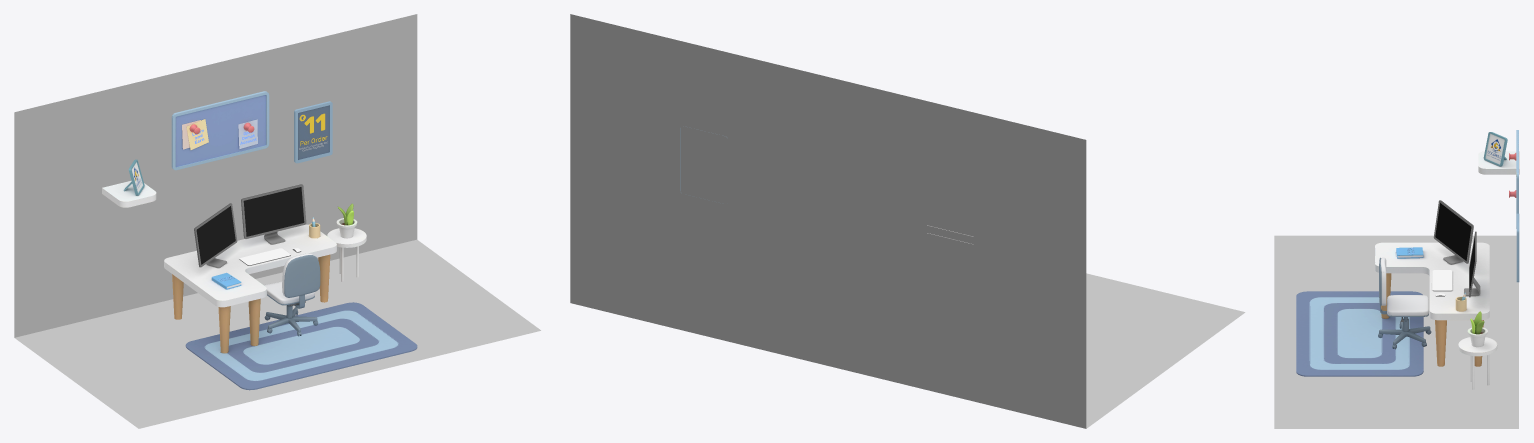
The picture shows the model from 3 angles, left to right: view 1: azimuth 30°, elevation 25°; view 2: azimuth 150°, elevation 25°; view 3: azimuth 270°, elevation 25°; orthographic projection. The views are drawn at different scales.
Visible parts, largest first — view 1: wall_horizontal, floor, Static_Objects_baked, wall_objects, ergonomic_chair.001, screen_2, screen_1, monitor_shell; view 2: wall_horizontal, floor; view 3: floor, Static_Objects_baked, ergonomic_chair.001, wall_objects, screen_1, monitor_shell, key_board.
Part boxes in pixels (left/top/right/bottom): wall_horizontal: left=14, top=14, right=417, bottom=337; floor: left=15, top=239, right=540, bottom=428; Static_Objects_baked: left=164, top=203, right=417, bottom=390; wall_objects: left=102, top=91, right=332, bottom=207; ergonomic_chair.001: left=264, top=253, right=320, bottom=336; screen_2: left=243, top=187, right=304, bottom=236; screen_1: left=196, top=206, right=235, bottom=264; monitor_shell: left=194, top=184, right=306, bottom=267; wall_horizontal: left=570, top=14, right=1086, bottom=428; floor: left=1086, top=273, right=1245, bottom=428; floor: left=1274, top=235, right=1518, bottom=428; Static_Objects_baked: left=1296, top=242, right=1497, bottom=389; ergonomic_chair.001: left=1378, top=257, right=1431, bottom=349; wall_objects: left=1478, top=130, right=1519, bottom=282; screen_1: left=1435, top=203, right=1471, bottom=260; monitor_shell: left=1433, top=200, right=1476, bottom=297; key_board: left=1432, top=270, right=1452, bottom=291.
Bounding box in the file's own units: 5.61 × 3 × 3.
12 materials, 3 textured.
